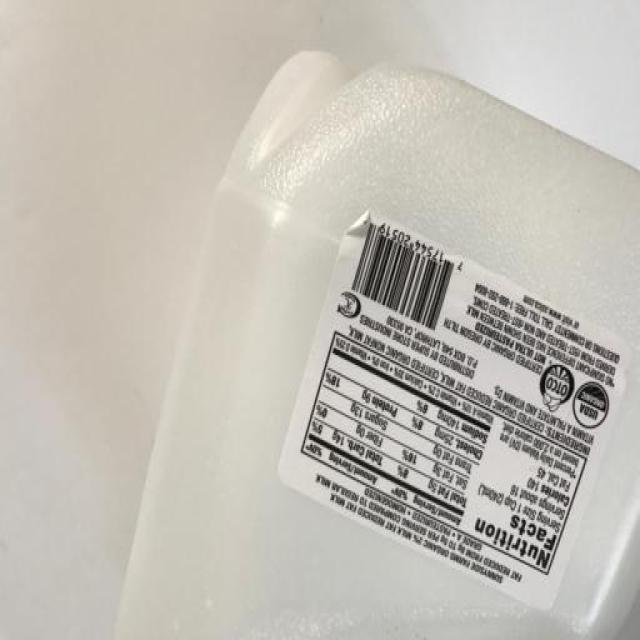plastic: (111, 46, 639, 638)
